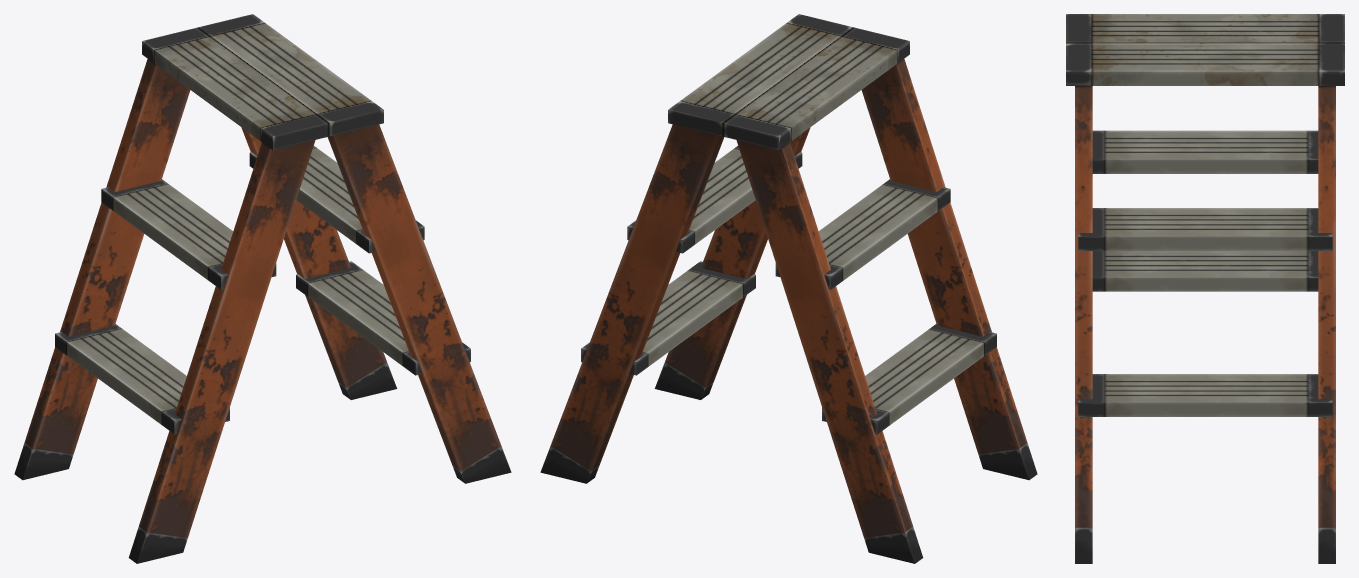
The model's file is ladder05.fbx.
3 renders of one model, left to right at view 1: azimuth 30°, elevation 25°; view 2: azimuth 150°, elevation 25°; view 3: azimuth 270°, elevation 25°, orthographic. The views are drawn at different scales.
Visible parts, largest first — view 1: ladder05; view 2: ladder05; view 3: ladder05.
Boxes of the visible parts, x1,y1,x2,y2 form: ladder05: [14, 14, 511, 563]; ladder05: [540, 14, 1037, 563]; ladder05: [1066, 14, 1344, 563].
Size of the model in its own units: 87.76 by 89.08 by 53.13.
